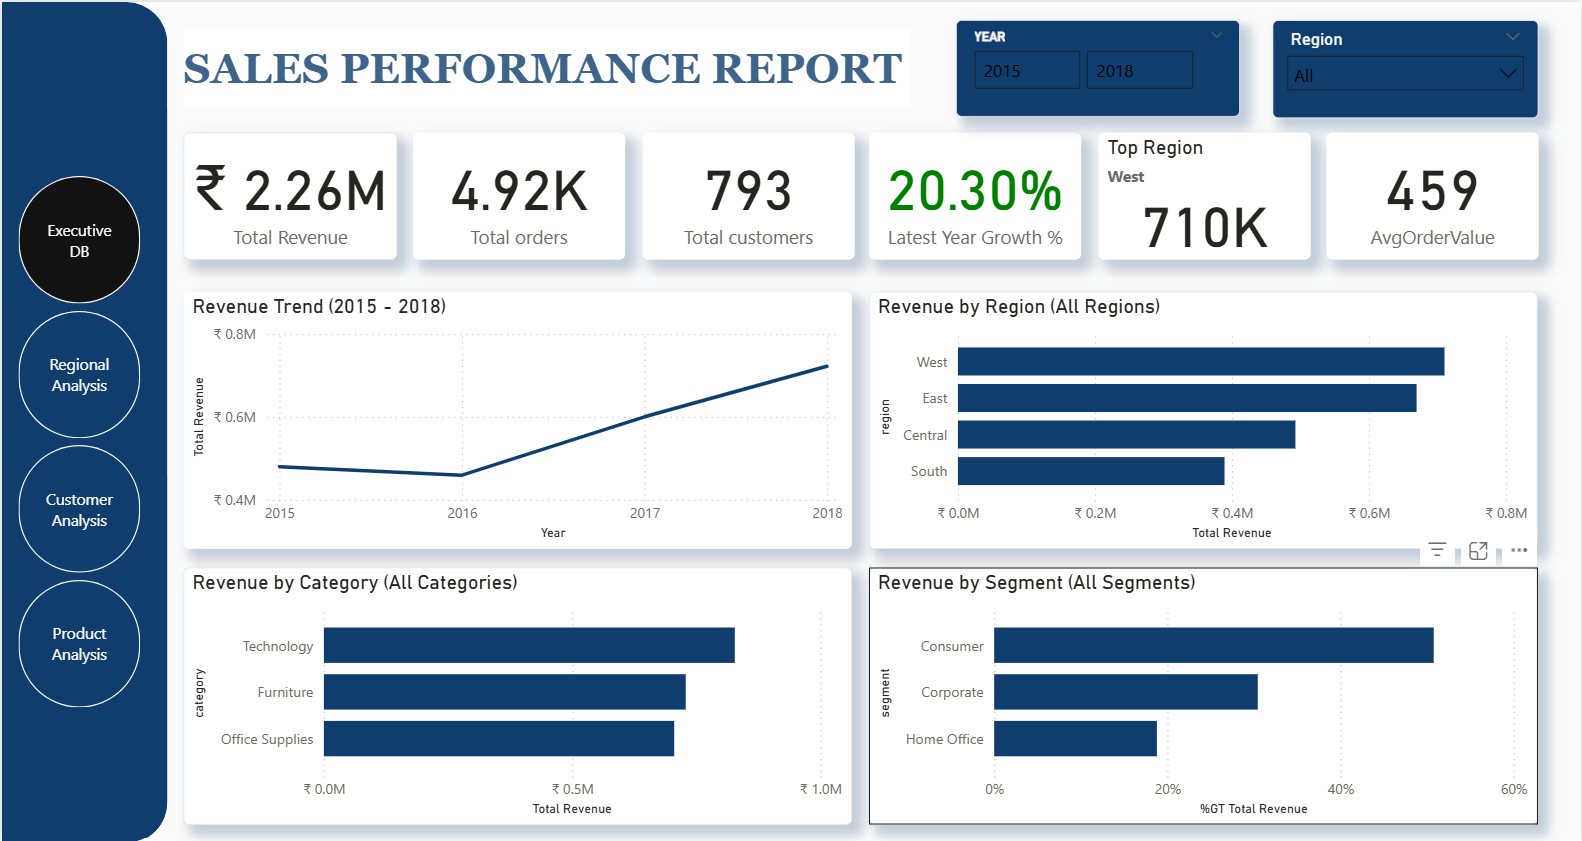

The dashboard page shown, as its layout file describes it:
{"tool":"powerbi","page":{"name":"Executive DB","canvas":[1350,720],"ordinal":0},"visuals":[{"type":"shape","box":[155.7,22.9,621.4,67.1],"z":0},{"type":"card","fields":{"Values":["superstore store.Total Revenue"]},"box":[155.7,111.4,182.9,108.6],"z":1000},{"type":"slicer","fields":{"Values":["superstore store.region"]},"box":[1085.7,15.7,227.1,84.3],"z":2000},{"type":"card","fields":{"Values":["superstore store.Total orders"]},"box":[351.4,111.4,181.4,108.6],"z":3000},{"type":"lineChart","fields":{"Y":["superstore store.Total Revenue"],"Category":["DateTable.Year"]},"box":[155.7,247.1,571,220],"z":4000},{"type":"card","fields":{"Values":["superstore store.Total customers"]},"box":[547.1,111.4,181.4,108.6],"z":5000},{"type":"clusteredBarChart","fields":{"Category":["superstore store.region"],"Y":["superstore store.Total Revenue"]},"box":[741.4,247.1,571.4,220],"z":6000},{"type":"card","fields":{"Values":["superstore store.Latest Year Growth %"]},"box":[741.4,111.4,181.4,108.6],"z":7000},{"type":"barChart","fields":{"Category":["superstore store.category"],"Y":["superstore store.Total Revenue"]},"box":[155.7,482.9,571.4,220],"z":8000},{"type":"slicer","fields":{"Values":["DateTable.Year"]},"box":[815.7,15.7,242.9,82.9],"z":9000},{"type":"clusteredBarChart","fields":{"Category":["superstore store.segment"],"Y":["Divide(superstore store.Total Revenue, ScopedEval(superstore store.Total Revenue, []))"]},"box":[741.4,482.9,571,220],"z":10000},{"type":"shape","box":[0,0,141.4,684.3],"z":11000},{"type":"shape","box":[0,405.7,141.4,314.3],"z":12000},{"type":"card","title":"Top Region","fields":{"Values":["superstore store.Top Region Revenue"]},"box":[937.1,111.4,181.4,108.6],"z":13000},{"type":"pageNavigator","box":[14.3,148.6,104.3,457.1],"z":14000},{"type":"card","fields":{"Values":["Measures (2).AvgOrderValue"]},"box":[1131.4,111.4,181.4,108.6],"z":15000}]}

Visuals, with their boxes in screenshot pixels (x1, y1, x2, y2), scaled from the page's 1350x720 canvas onto the 1582x841 screenshot:
shape: (left=182, top=27, right=911, bottom=105)
card - superstore store.Total Revenue: (left=182, top=130, right=397, bottom=257)
slicer - superstore store.region: (left=1272, top=18, right=1538, bottom=117)
card - superstore store.Total orders: (left=412, top=130, right=624, bottom=257)
lineChart - superstore store.Total Revenue x DateTable.Year: (left=182, top=289, right=852, bottom=546)
card - superstore store.Total customers: (left=641, top=130, right=854, bottom=257)
clusteredBarChart - superstore store.region x superstore store.Total Revenue: (left=869, top=289, right=1538, bottom=546)
card - superstore store.Latest Year Growth %: (left=869, top=130, right=1081, bottom=257)
barChart - superstore store.category x superstore store.Total Revenue: (left=182, top=564, right=852, bottom=821)
slicer - DateTable.Year: (left=956, top=18, right=1241, bottom=115)
clusteredBarChart - superstore store.segment x Divide(superstore store.Total Revenue, ScopedEval(superstore store.Total Revenue, [])): (left=869, top=564, right=1538, bottom=821)
shape: (left=0, top=0, right=166, bottom=799)
shape: (left=0, top=474, right=166, bottom=840)
"Top Region" card: (left=1098, top=130, right=1311, bottom=257)
pageNavigator: (left=17, top=174, right=139, bottom=707)
card - Measures (2).AvgOrderValue: (left=1326, top=130, right=1538, bottom=257)
